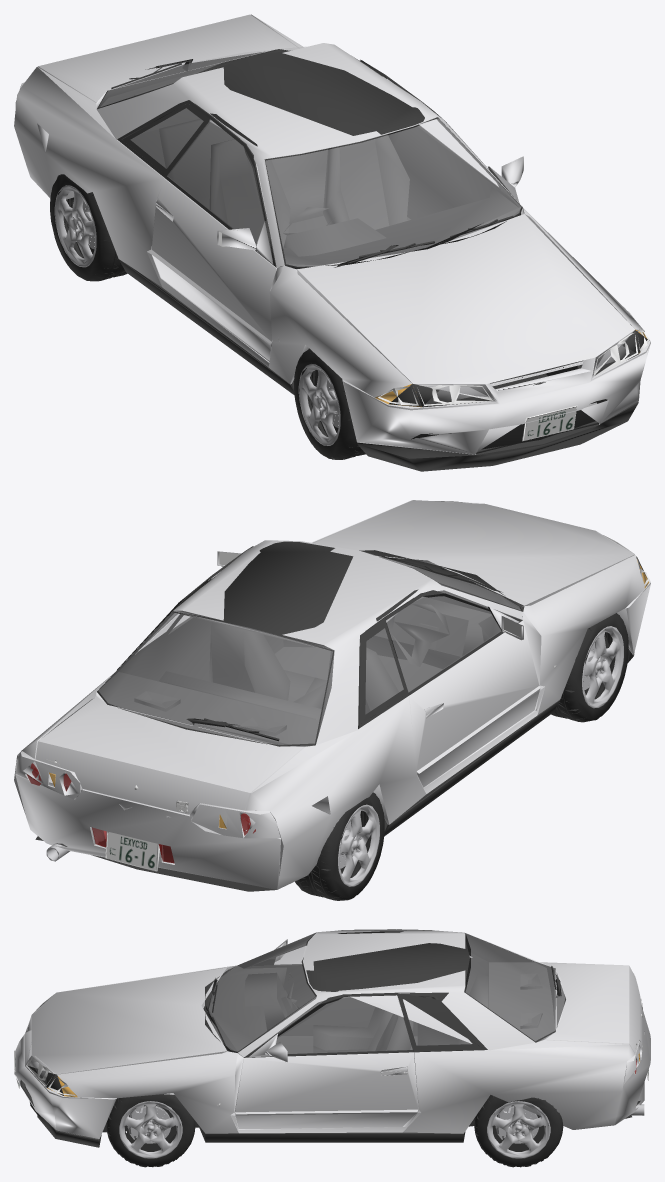
The picture shows the model from 3 angles, top to bottom: view 1: azimuth 30°, elevation 25°; view 2: azimuth 150°, elevation 25°; view 3: azimuth 270°, elevation 25°; orthographic projection. The views are drawn at different scales.
Visible parts, largest first — view 1: Object_19, Object_18, Object_12, Object_27, wheel_rr, wheel_fr, Object_10, Object_22, Object_4, Object_21; view 2: Object_19, Object_18, Object_12, wheel_rr, wheel_fr, Object_27, Object_10, Object_22, Object_21; view 3: Object_19, Object_18, Object_12, Object_27, wheel_fl, wheel_rl, Object_10, Object_22, Object_4.
Boxes of the visible parts, left/top/right/bottom form: Object_19: left=14, top=14, right=650, bottom=454; Object_18: left=100, top=49, right=520, bottom=349; Object_12: left=98, top=46, right=638, bottom=406; Object_27: left=111, top=59, right=649, bottom=471; wheel_rr: left=50, top=174, right=127, bottom=281; wheel_fr: left=294, top=349, right=365, bottom=459; Object_10: left=97, top=49, right=522, bottom=268; Object_22: left=72, top=197, right=626, bottom=465; Object_4: left=378, top=328, right=649, bottom=405; Object_21: left=522, top=405, right=577, bottom=441; Object_19: left=14, top=500, right=650, bottom=889; Object_18: left=98, top=541, right=524, bottom=746; Object_12: left=98, top=502, right=614, bottom=744; wheel_rr: left=295, top=792, right=384, bottom=900; wheel_fr: left=551, top=613, right=628, bottom=722; Object_27: left=117, top=546, right=647, bottom=836; Object_10: left=97, top=566, right=522, bottom=745; Object_22: left=35, top=550, right=616, bottom=891; Object_21: left=105, top=831, right=159, bottom=871; Object_19: left=14, top=930, right=650, bottom=1139; Object_18: left=209, top=931, right=565, bottom=1054; Object_12: left=30, top=933, right=564, bottom=1087; Object_27: left=20, top=929, right=561, bottom=1147; wheel_fl: left=106, top=1094, right=195, bottom=1167; wheel_rl: left=474, top=1095, right=563, bottom=1167; Object_10: left=208, top=932, right=555, bottom=1052; Object_22: left=25, top=969, right=640, bottom=1151; Object_4: left=27, top=994, right=635, bottom=1095.
Size of the model in its own units: 1.9 by 1.26 by 4.54.
Materials: 10 (1 with a texture image).
